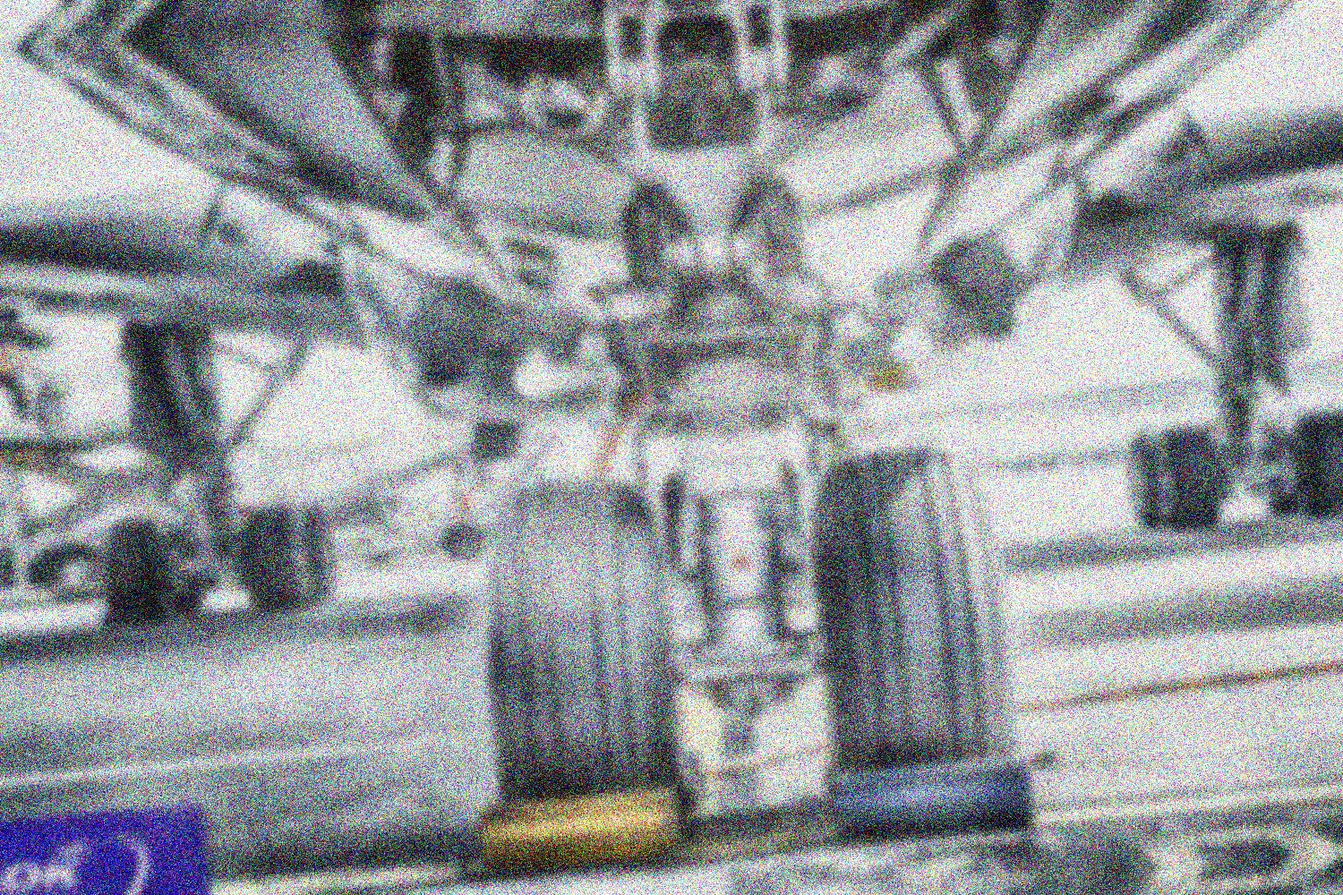chock: (829, 749, 1047, 849), (474, 782, 689, 880)
wheel: (465, 474, 697, 837), (794, 443, 1017, 800), (655, 458, 806, 585), (234, 497, 336, 611), (94, 513, 176, 625), (1153, 421, 1227, 531), (1271, 408, 1343, 520), (149, 516, 211, 614), (1250, 426, 1307, 518), (1122, 428, 1173, 528), (657, 468, 698, 581), (294, 502, 339, 602), (32, 542, 107, 590), (776, 459, 807, 564), (441, 520, 491, 562), (365, 552, 392, 564)
